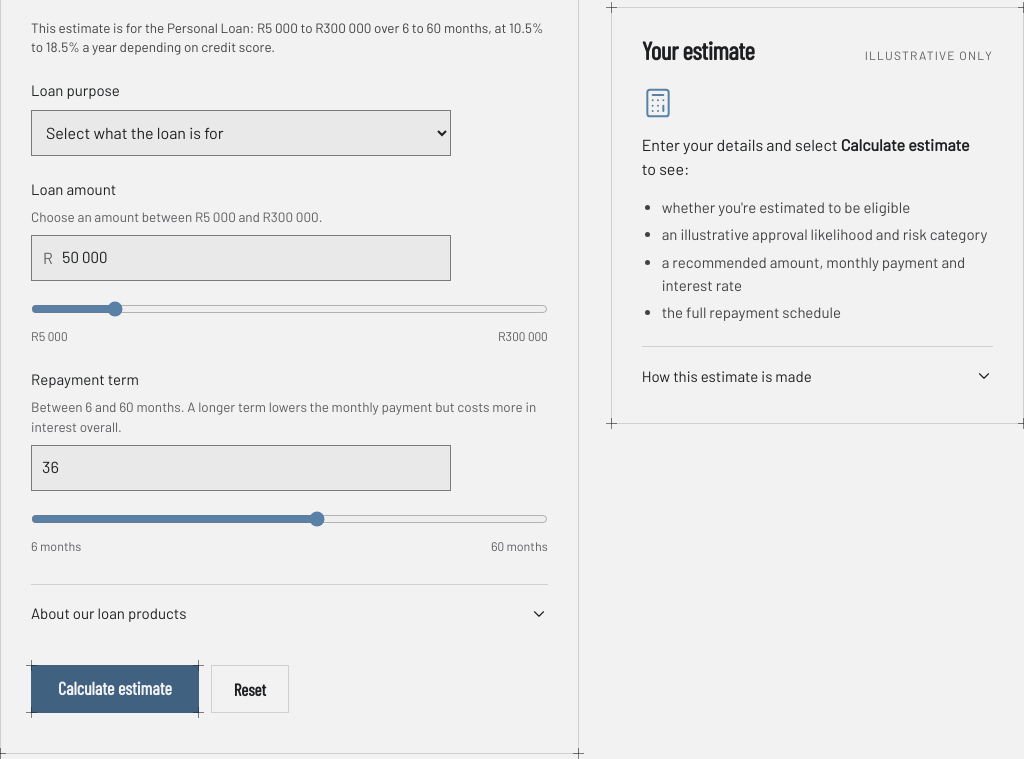
it: the form › reports every problem in a summary that takes focus, and sends nothing
(page scrolled)
What coordinates should you click on to do the following:
click the button "Calculate estimate"
I would click on:
 (115, 689)
Its box is [31,665,199,713].
(page scrolled)
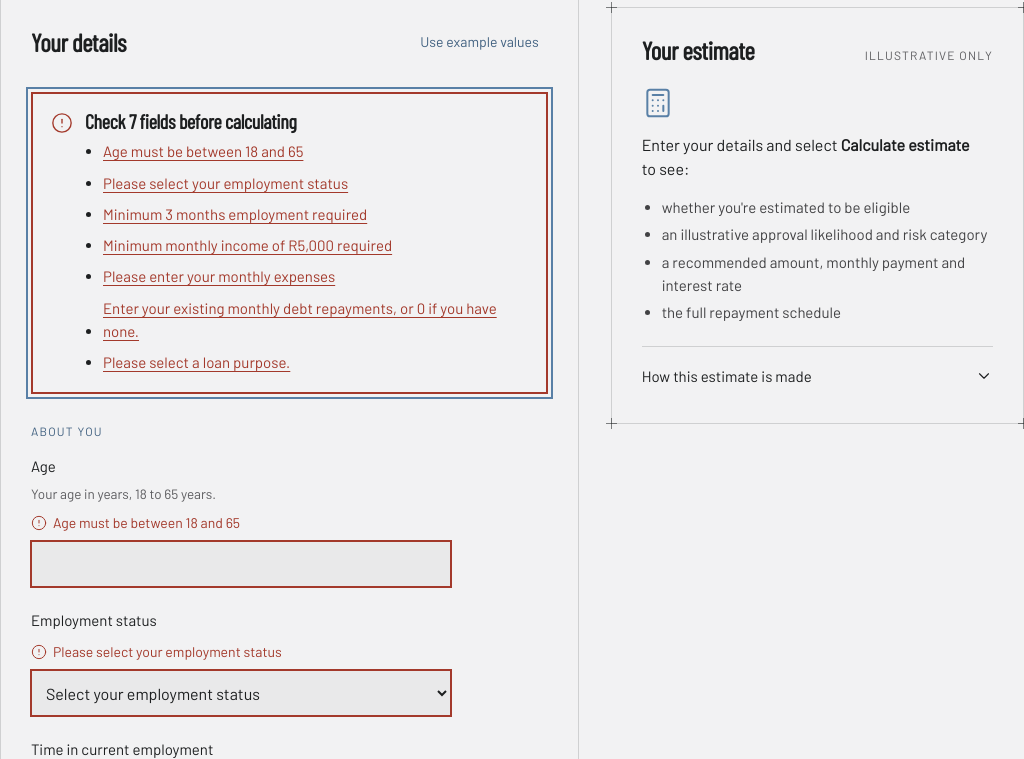
Check: the heading "Check 7 fields before calculating" is shown, box [85,109,296,133]
Check: the link "Age must be between 18 and 65" is shown, box [103,138,303,166]
